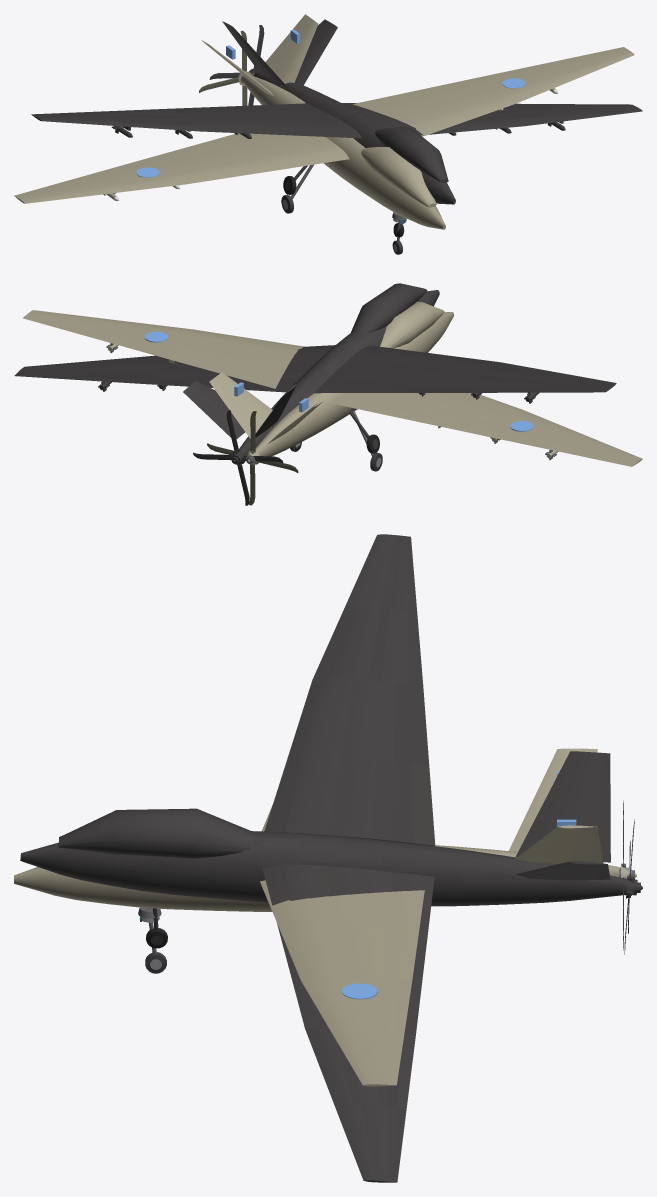
File: drone__saetbyol_4_9.glb
3 views of the same model, one above another, from view 1: azimuth 30°, elevation 25°; view 2: azimuth 150°, elevation 25°; view 3: azimuth 270°, elevation 25° (orthographic). The views are drawn at different scales.
Visible parts, largest first — view 1: Fuselage_Mesh, Wreck, Propeller_Mesh; view 2: Fuselage_Mesh, Wreck, Propeller_Mesh; view 3: Wreck, Fuselage_Mesh.
Boxes of the visible parts, box(x1,y1,x2,y2) form: Fuselage_Mesh: box(14, 14, 634, 254); Wreck: box(31, 19, 642, 237); Propeller_Mesh: box(199, 30, 254, 105); Fuselage_Mesh: box(23, 301, 642, 471); Wreck: box(14, 283, 616, 505); Propeller_Mesh: box(207, 411, 298, 505); Wreck: box(20, 534, 642, 1182); Fuselage_Mesh: box(14, 748, 618, 1086).
Size of what is drawn, in the model's own units: 20.27 by 4.68 by 11.71.
